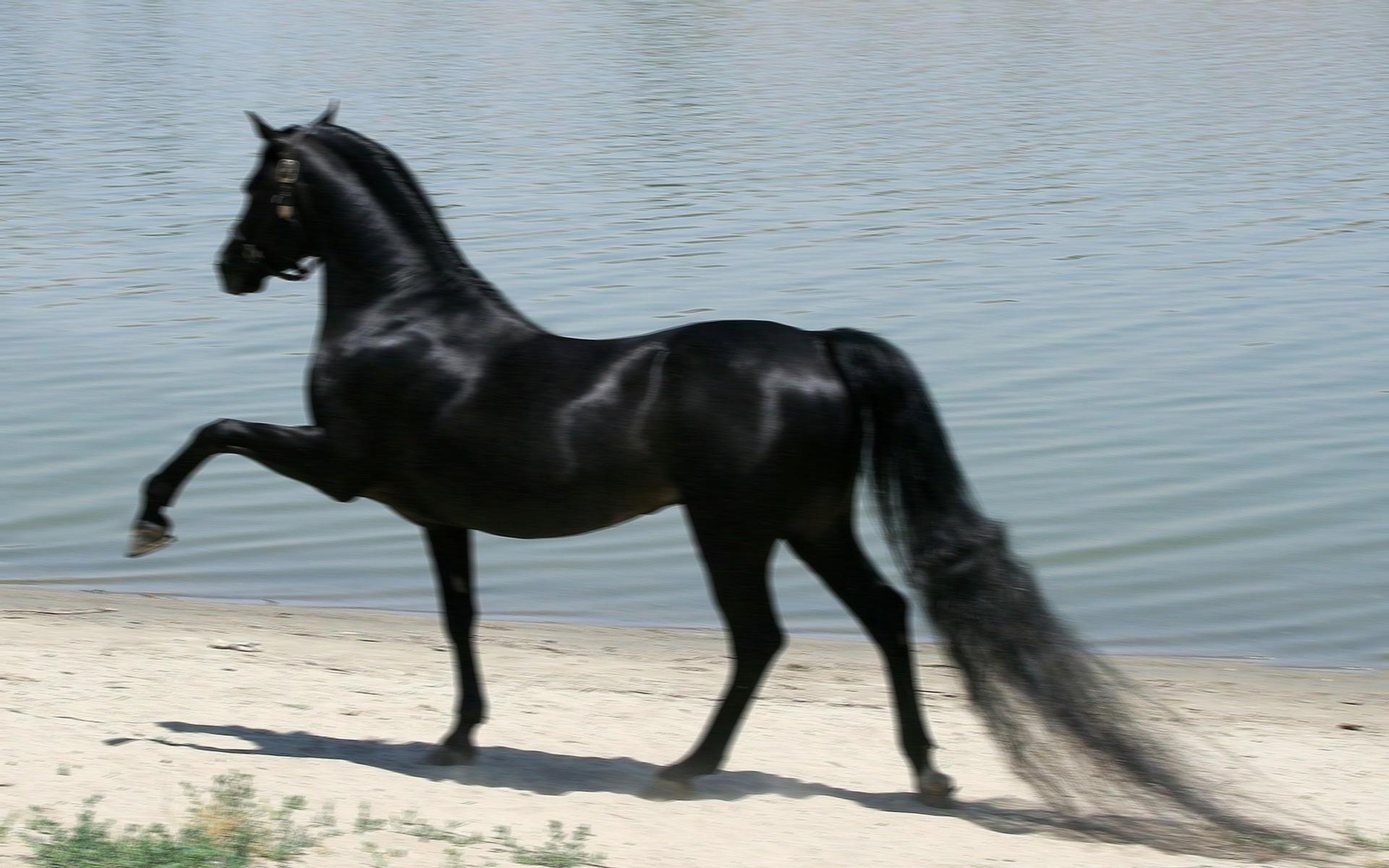horse: (113, 90, 1370, 868)
